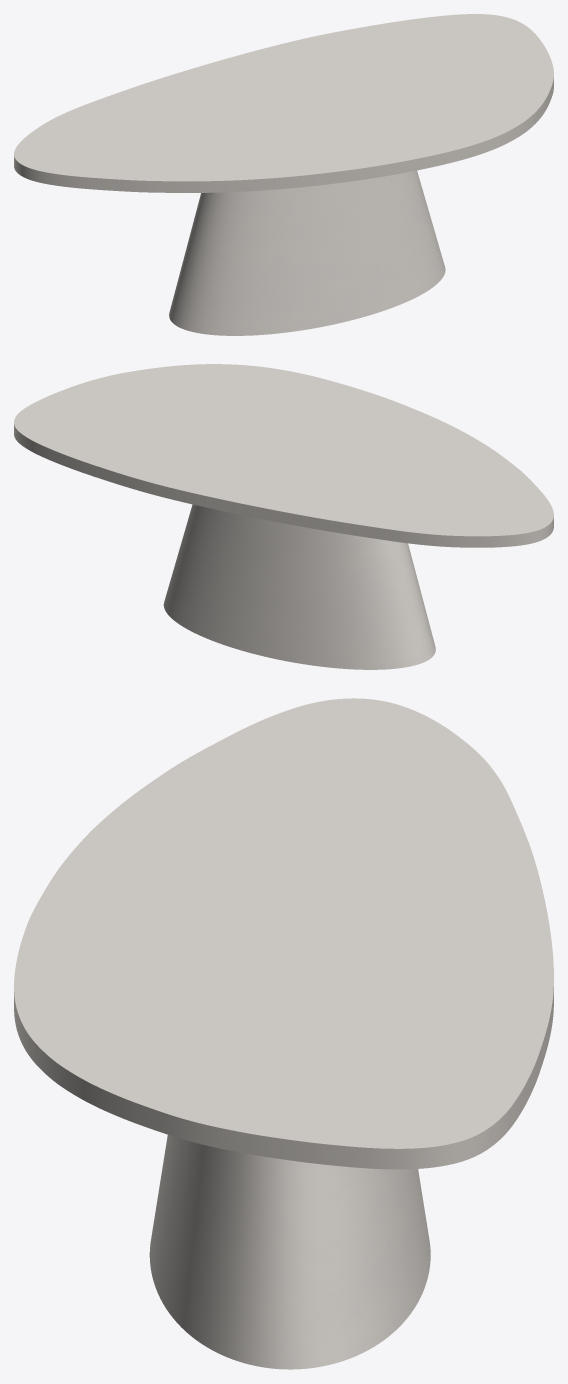
Rendered from pearlwhite_pebbletop_standard_eqone.glb.
3 renders of one model, top to bottom at view 1: azimuth 30°, elevation 25°; view 2: azimuth 150°, elevation 25°; view 3: azimuth 270°, elevation 25°, orthographic. The views are drawn at different scales.
Parts seen in each view (by area): view 1: standard_pebbletop, eqone; view 2: standard_pebbletop, eqone; view 3: standard_pebbletop, eqone.
Part boxes in pixels (bbox=[...]): standard_pebbletop: bbox=[14, 14, 553, 192]; eqone: bbox=[169, 170, 445, 335]; standard_pebbletop: bbox=[14, 364, 553, 547]; eqone: bbox=[163, 504, 435, 669]; standard_pebbletop: bbox=[14, 698, 553, 1169]; eqone: bbox=[149, 1135, 430, 1369].
Bounding box in the file's own units: 7.5 × 2.51 × 3.8.
1 material, 1 textured.
